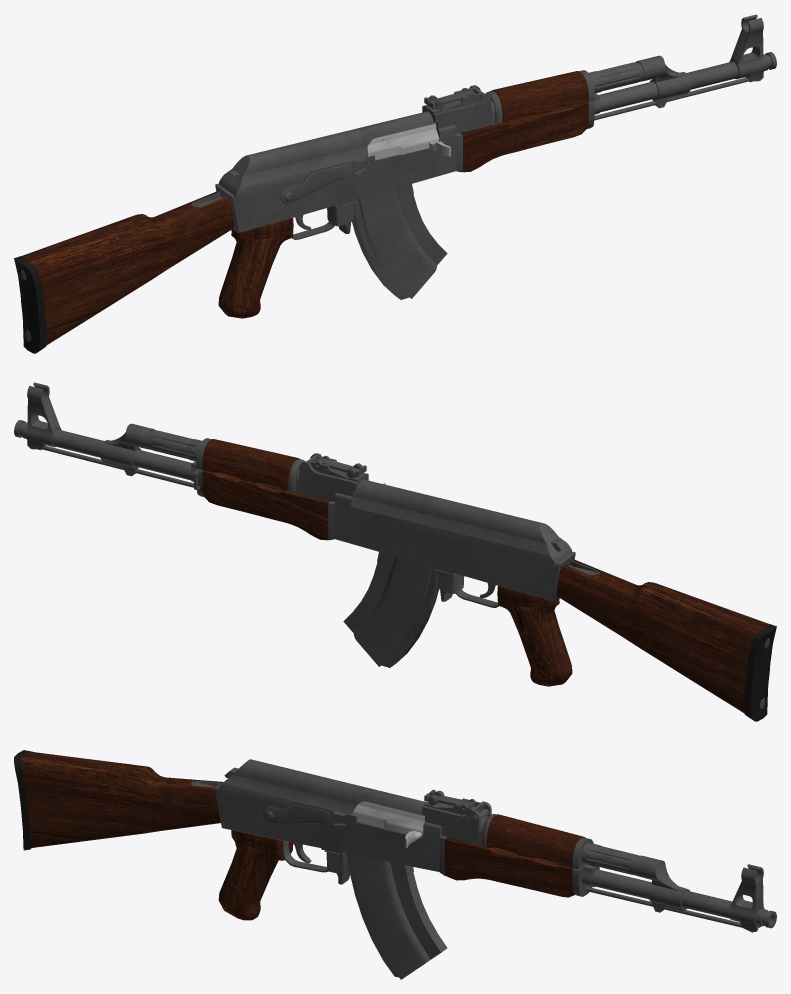
3 views of the same model, one above another, from view 1: azimuth 30°, elevation 25°; view 2: azimuth 150°, elevation 25°; view 3: azimuth 330°, elevation 25° (orthographic).
Parts seen in each view (by area): view 1: Cylinder.002; view 2: Cylinder.002; view 3: Cylinder.002.
Part boxes in pixels (x1,y1,x2,y2): Cylinder.002: (14,14,776,353); Cylinder.002: (14,382,776,721); Cylinder.002: (14,750,776,979).
Size of the model in its own units: 0.8743 by 0.2142 by 0.066.
Materials: 1 (1 with a texture image).
